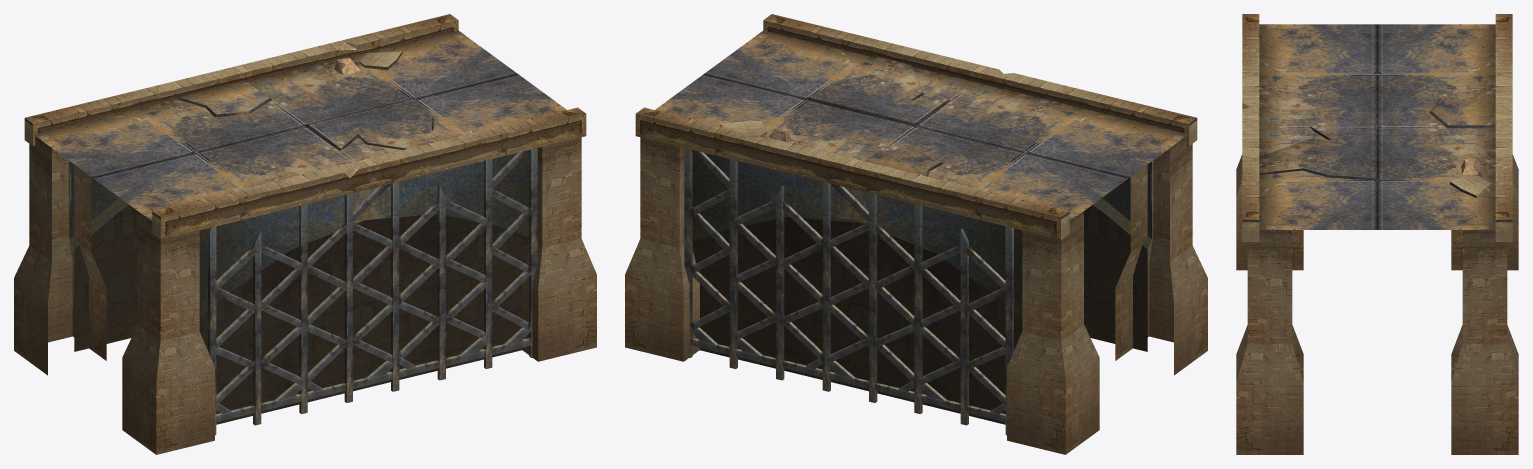
Rendered from yw_huxiaoshamo_qiao01.FBX.
3 renders of one model, left to right at view 1: azimuth 30°, elevation 25°; view 2: azimuth 150°, elevation 25°; view 3: azimuth 270°, elevation 25°, orthographic.
Visible parts, largest first — view 1: yw_huxiaoshamo_qiao01; view 2: yw_huxiaoshamo_qiao01; view 3: yw_huxiaoshamo_qiao01.
Boxes of the visible parts, bbox=[...] form: yw_huxiaoshamo_qiao01: bbox=[14, 14, 596, 454]; yw_huxiaoshamo_qiao01: bbox=[625, 14, 1207, 454]; yw_huxiaoshamo_qiao01: bbox=[1236, 14, 1518, 454].
Bounding box in the file's own units: 964 × 488 × 539.
